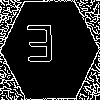E: (25, 25, 55, 71)
